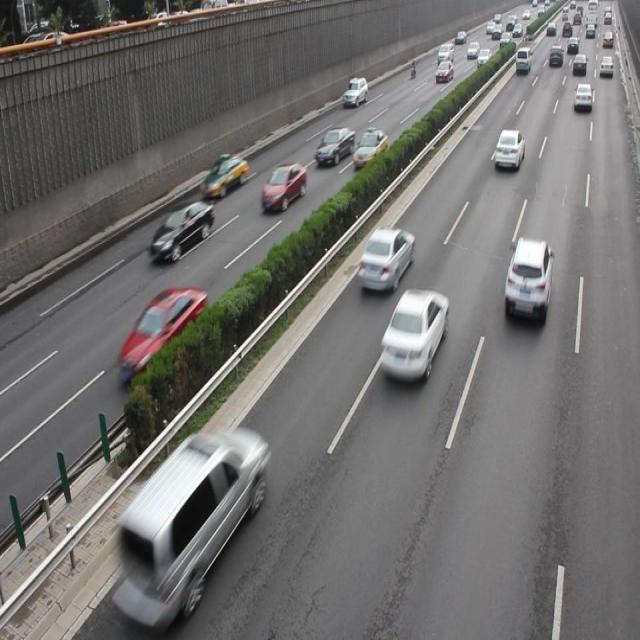car: (117, 286, 206, 385), (378, 286, 448, 384), (502, 236, 552, 322), (148, 198, 213, 262), (355, 225, 412, 293), (260, 162, 306, 212), (199, 154, 248, 199), (314, 126, 354, 167), (352, 130, 388, 169), (492, 127, 524, 170)
truck: (112, 423, 266, 605)
